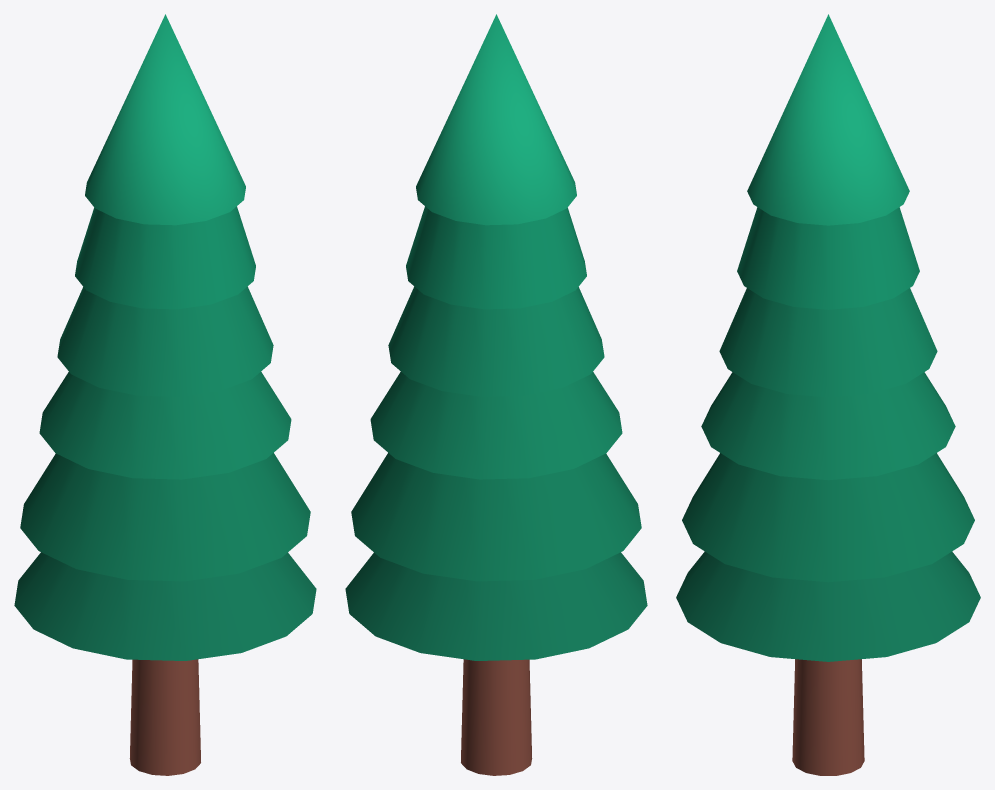
File: Spruce_Cold_Turquoise_Thin_1.fbx
3 renders of one model, left to right at view 1: azimuth 30°, elevation 25°; view 2: azimuth 150°, elevation 25°; view 3: azimuth 270°, elevation 25°, orthographic.
Parts seen in each view (by area): view 1: Cylinder.170, Cylinder.171, Cylinder.168, Cylinder.169, Cylinder.166, Cylinder.167, Cylinder.172; view 2: Cylinder.170, Cylinder.171, Cylinder.168, Cylinder.169, Cylinder.166, Cylinder.167, Cylinder.172; view 3: Cylinder.170, Cylinder.171, Cylinder.168, Cylinder.169, Cylinder.166, Cylinder.167, Cylinder.172.
Boxes of the visible parts, x1,y1,x2,y2 form: Cylinder.170: [20, 453, 310, 581]; Cylinder.171: [14, 552, 316, 660]; Cylinder.168: [39, 371, 291, 479]; Cylinder.169: [85, 14, 245, 225]; Cylinder.166: [57, 286, 273, 396]; Cylinder.167: [75, 206, 255, 309]; Cylinder.172: [129, 659, 200, 775]; Cylinder.170: [351, 453, 641, 581]; Cylinder.171: [345, 552, 647, 660]; Cylinder.168: [370, 371, 622, 479]; Cylinder.169: [416, 14, 576, 225]; Cylinder.166: [388, 286, 604, 396]; Cylinder.167: [406, 206, 586, 309]; Cylinder.172: [461, 659, 532, 775]; Cylinder.170: [682, 453, 974, 582]; Cylinder.171: [676, 551, 980, 661]; Cylinder.168: [701, 372, 955, 480]; Cylinder.169: [747, 14, 909, 225]; Cylinder.166: [719, 288, 937, 397]; Cylinder.167: [737, 207, 919, 309]; Cylinder.172: [792, 659, 864, 775].
Bounding box in the file's own units: 195 × 529 × 195.
